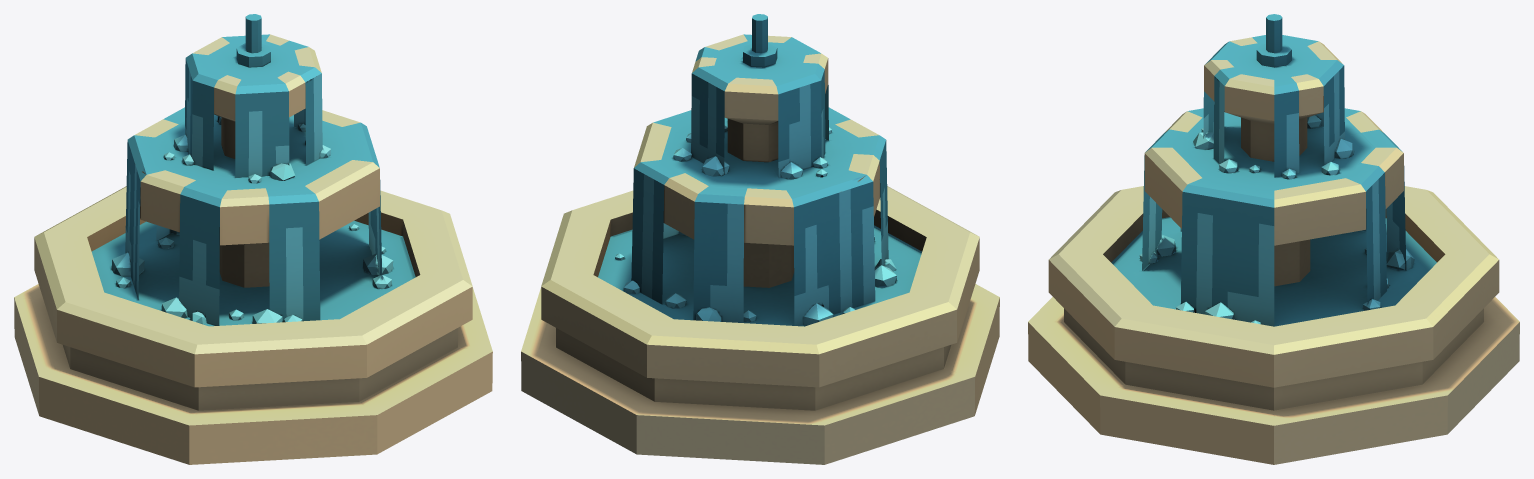
Rendered from fountain.glb.
3 views of the same model, side by side, from view 1: azimuth 30°, elevation 25°; view 2: azimuth 150°, elevation 25°; view 3: azimuth 270°, elevation 25° (orthographic).
Parts seen in each view (by area): view 1: node-0; view 2: node-0; view 3: node-0.
Part boxes in pixels (bbox=[...]): node-0: bbox=[14, 14, 492, 464]; node-0: bbox=[521, 14, 999, 464]; node-0: bbox=[1028, 14, 1519, 464].
Size of the model in its own units: 1.99 by 1.53 by 1.99.
Materials: 1 (1 with a texture image).
